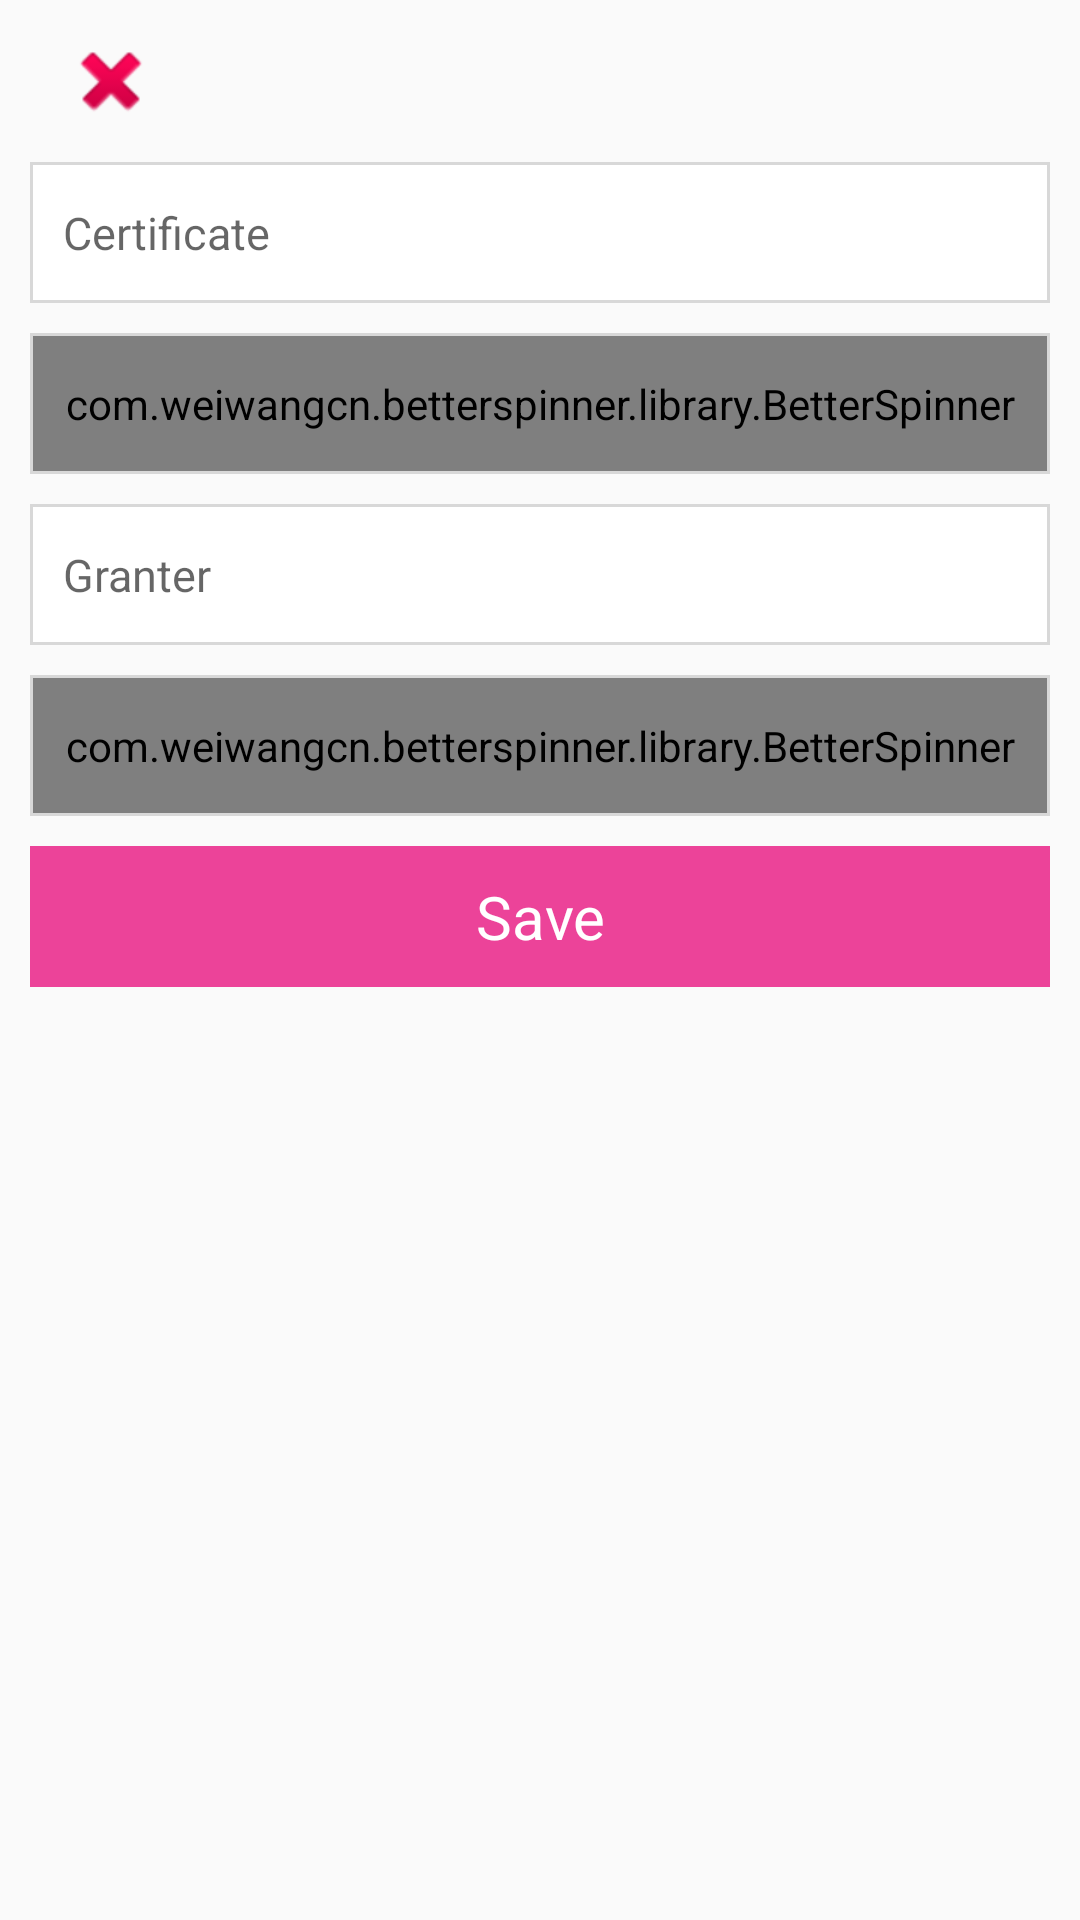

Where to tap for icons on this 1080*1920 app screen, as [x,y]:
delete: [111,81]
